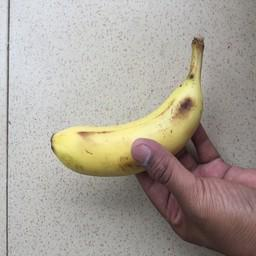Banana Ripe: (34, 32, 220, 199)
